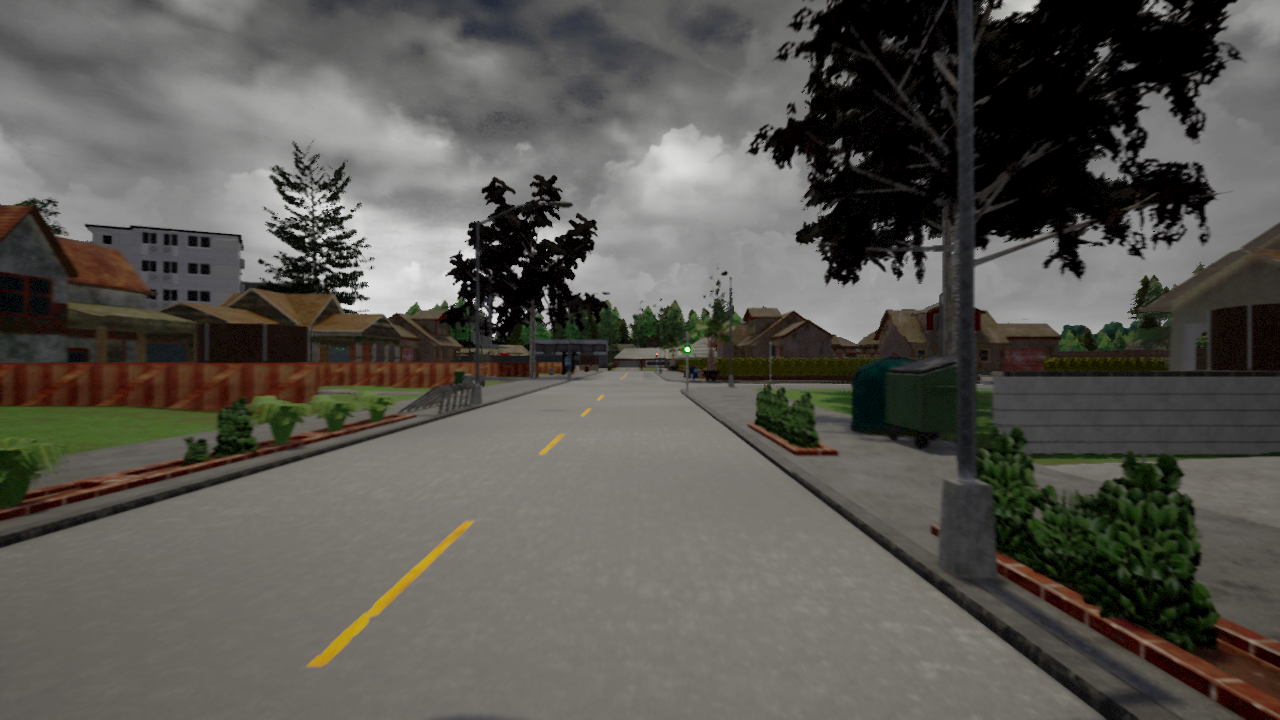green: (682, 335, 692, 354)
